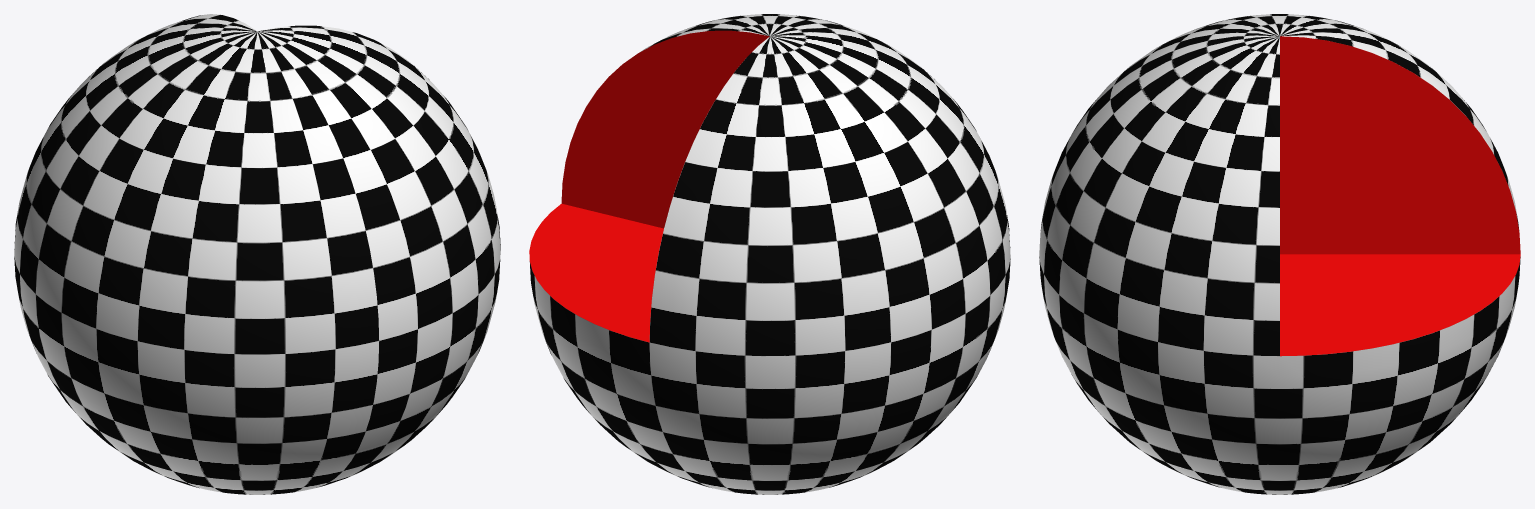
3 views of the same model, side by side, from view 1: azimuth 30°, elevation 25°; view 2: azimuth 150°, elevation 25°; view 3: azimuth 270°, elevation 25° (orthographic).
Visible parts, largest first — view 1: cut_away_sphere; view 2: cut_away_sphere; view 3: cut_away_sphere.
Part boxes in pixels (x1,y1,x2,y2): cut_away_sphere: (14, 14, 500, 494); cut_away_sphere: (529, 14, 1010, 494); cut_away_sphere: (1039, 14, 1520, 494).
Bounding box in the file's own units: 80 × 80 × 80.
